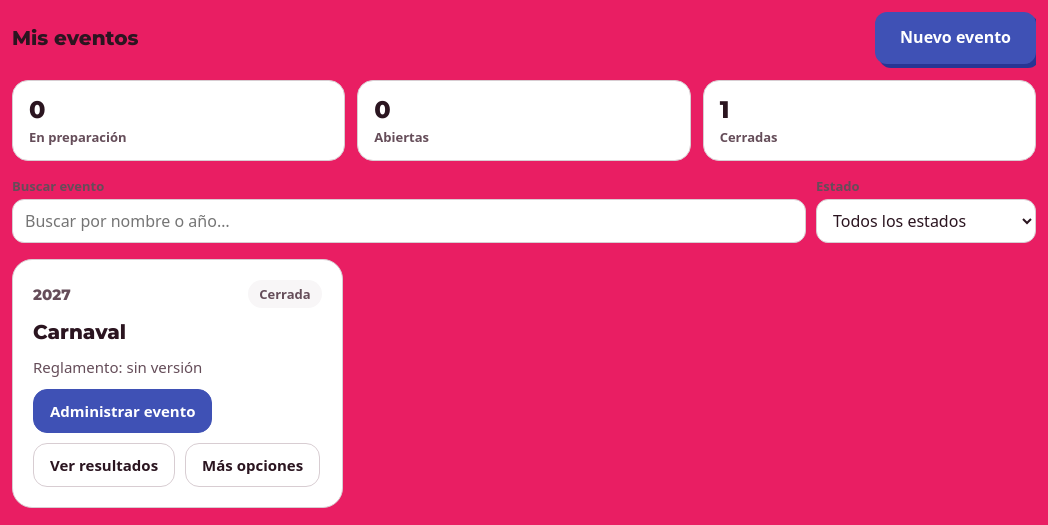
Administrator views read-only results for a CLOSED edition without mutation buttons
Click the button with aria-label "Ver resultados Carnaval 2027".
click(104, 465)  # box 33,443 -> 175,487
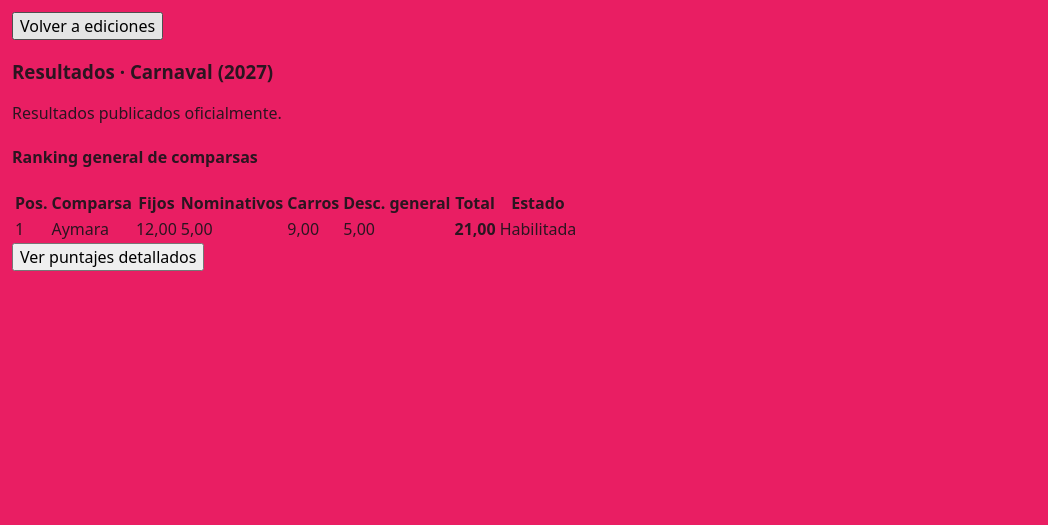
Expected: the text "Resultados publicados oficialmente." is shown, 12,102 -> 282,124
Expected: the text "Aymara" is shown, 50,217 -> 133,241
